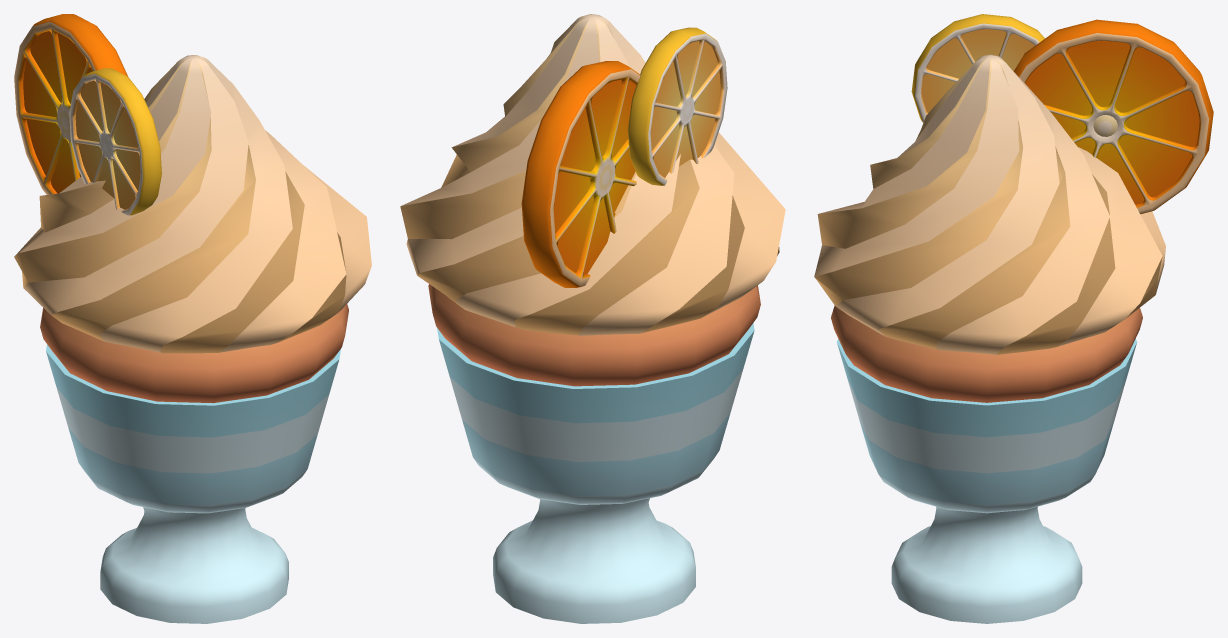
File: Cupcake_Lemon_V3_00.fbx
3 renders of one model, left to right at view 1: azimuth 30°, elevation 25°; view 2: azimuth 150°, elevation 25°; view 3: azimuth 270°, elevation 25°, orthographic. The views are drawn at different scales.
Parts seen in each view (by area): view 1: Cupcake_Lemon_V3_00; view 2: Cupcake_Lemon_V3_00; view 3: Cupcake_Lemon_V3_00.
Boxes of the visible parts, x1=… form: Cupcake_Lemon_V3_00: x1=14, y1=14, x2=371, y2=623; Cupcake_Lemon_V3_00: x1=400, y1=14, x2=785, y2=623; Cupcake_Lemon_V3_00: x1=814, y1=14, x2=1213, y2=623.
Size of the model in its own units: 36.59 by 61.27 by 41.56.
